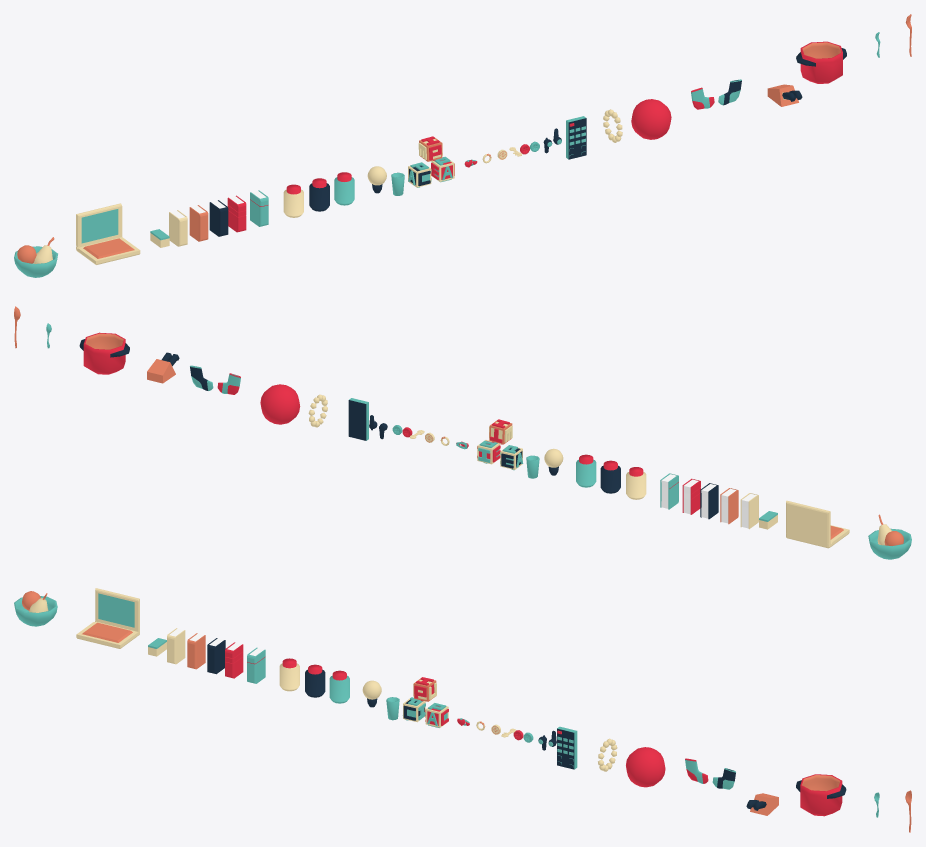
File: Proops.glb
3 renders of one model, top to bottom at view 1: azimuth 30°, elevation 25°; view 2: azimuth 150°, elevation 25°; view 3: azimuth 330°, elevation 25°, orthographic.
Parts seen in each view (by area): view 1: Laptop, Cube.002, Sphere.001, Cube, Bowl, Libro 3, Libro 2, Frasco, Frasco 1, Frasco 2, Libro 1, Libro (+1 smaller); view 2: Laptop, Cube.002, Sphere.001, Cube, Bowl, Frasco, Frasco 1, Frasco 2, Libro 2, Libro, Libro 3, Libro 4 (+2 smaller); view 3: Laptop, Cube.002, Sphere.001, Cube, Bowl, Frasco 2, Frasco, Frasco 1, Libro, Libro 1, Libro 4, Libro 3 (+2 smaller).
Part boxes in pixels (left/top/right/bottom): Laptop: left=76, top=203, right=140, bottom=264; Cube.002: left=796, top=41, right=846, bottom=83; Sphere.001: left=631, top=99, right=671, bottom=139; Cube: left=566, top=116, right=586, bottom=159; Bowl: left=14, top=246, right=57, bottom=277; Libro 3: left=189, top=205, right=208, bottom=241; Libro 2: left=209, top=200, right=228, bottom=236; Frasco: left=334, top=172, right=354, bottom=205; Frasco 1: left=309, top=178, right=329, bottom=211; Frasco 2: left=283, top=184, right=303, bottom=217; Libro 1: left=227, top=195, right=246, bottom=232; Libro: left=250, top=190, right=268, bottom=226; Laptop: left=786, top=500, right=849, bottom=548; Cube.002: left=79, top=332, right=129, bottom=374; Sphere.001: left=260, top=384, right=300, bottom=424; Cube: left=348, top=398, right=368, bottom=440; Bowl: left=868, top=528, right=911, bottom=559; Frasco: left=576, top=454, right=596, bottom=487; Frasco 1: left=600, top=460, right=620, bottom=493; Frasco 2: left=626, top=467, right=646, bottom=499; Libro 2: left=700, top=483, right=718, bottom=519; Libro: left=660, top=473, right=678, bottom=509; Libro 3: left=720, top=488, right=738, bottom=524; Libro 4: left=740, top=493, right=758, bottom=529; Laptop: left=76, top=588, right=139, bottom=648; Cube.002: left=796, top=774, right=846, bottom=816; Sphere.001: left=626, top=747, right=665, bottom=787; Cube: left=557, top=726, right=577, bottom=769; Bowl: left=14, top=596, right=57, bottom=626; Frasco 2: left=279, top=658, right=299, bottom=691; Frasco: left=329, top=670, right=349, bottom=703; Frasco 1: left=305, top=664, right=325, bottom=697; Libro: left=247, top=647, right=265, bottom=683; Libro 1: left=225, top=642, right=243, bottom=678; Libro 4: left=167, top=628, right=185, bottom=664; Libro 3: left=187, top=633, right=205, bottom=669.
Size of the model in its own units: 202 by 12.1 by 12.98.
3 materials, 3 textured.
